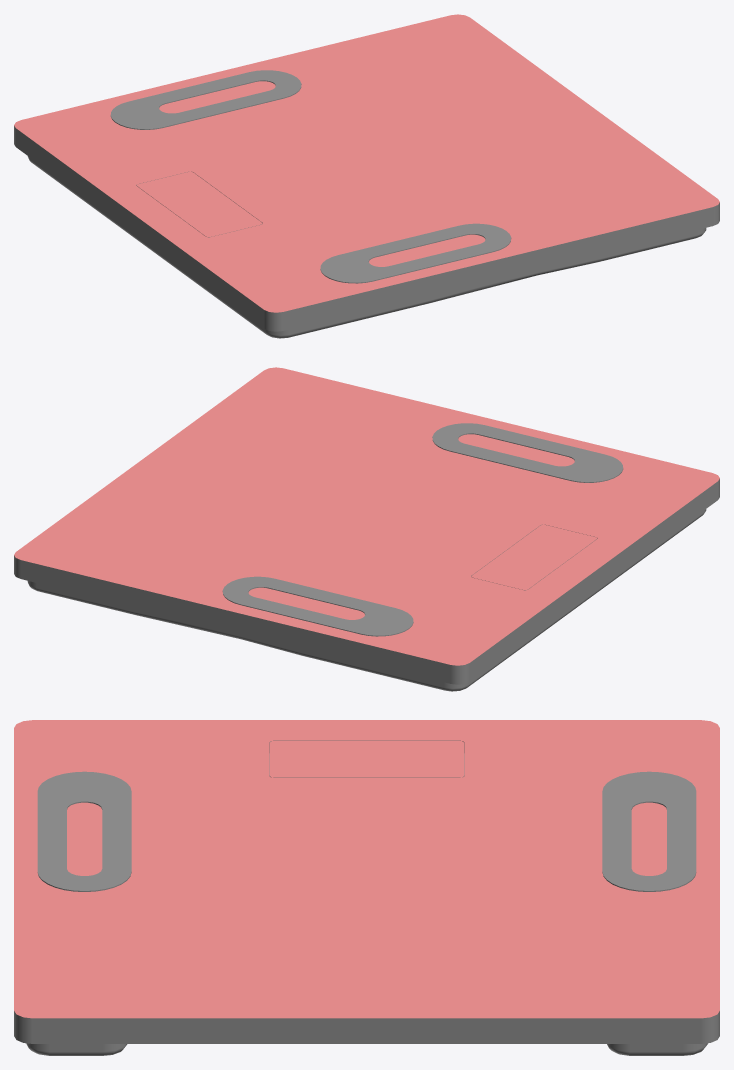
3 renders of one model, top to bottom at view 1: azimuth 30°, elevation 25°; view 2: azimuth 150°, elevation 25°; view 3: azimuth 270°, elevation 25°, orthographic. The views are drawn at different scales.
Visible parts, largest first — view 1: 581D30798F5F130DAB3B3257F48B72EFD60086D1|:|B8A4396250C5687B1; view 2: 581D30798F5F130DAB3B3257F48B72EFD60086D1|:|B8A4396250C5687B1; view 3: 581D30798F5F130DAB3B3257F48B72EFD60086D1|:|B8A4396250C5687B1.
Boxes of the visible parts, x1,y1,x2,y2 form: 581D30798F5F130DAB3B3257F48B72EFD60086D1|:|B8A4396250C5687B1: (14,14,719,338); 581D30798F5F130DAB3B3257F48B72EFD60086D1|:|B8A4396250C5687B1: (14,367,719,691); 581D30798F5F130DAB3B3257F48B72EFD60086D1|:|B8A4396250C5687B1: (14,720,719,1055).
Bounding box in the file's own units: 30 × 2.5 × 30.
